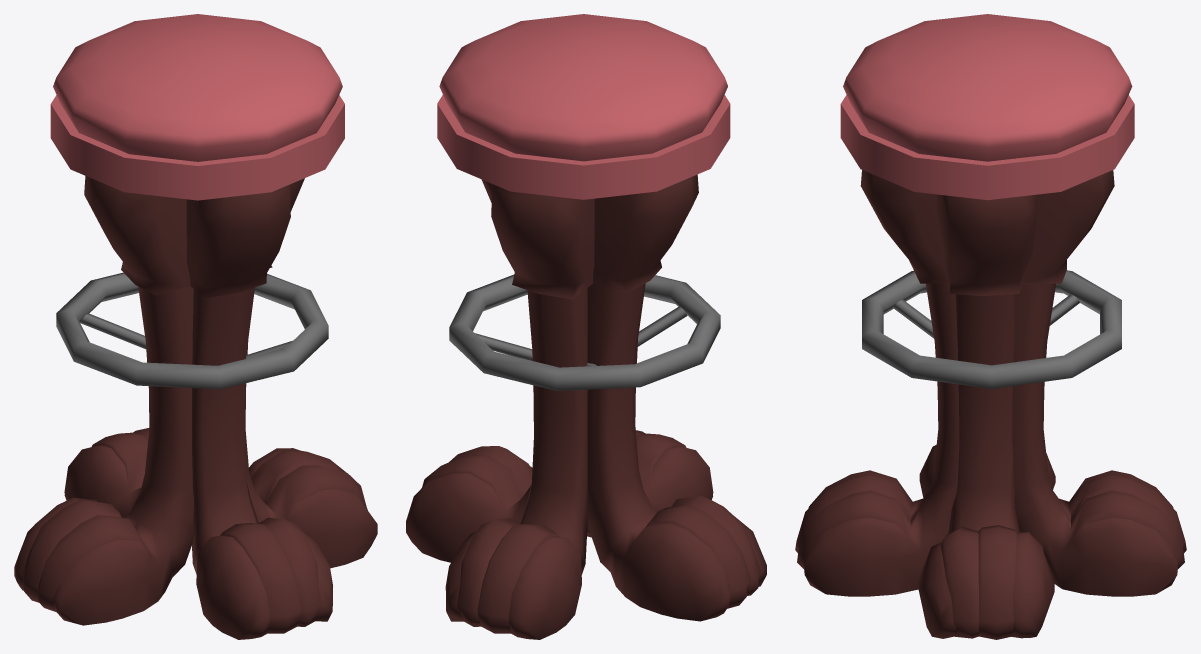
Rendered from tabouret_bar.fbx.
3 views of the same model, side by side, from view 1: azimuth 30°, elevation 25°; view 2: azimuth 150°, elevation 25°; view 3: azimuth 270°, elevation 25° (orthographic).
Parts seen in each view (by area): view 1: siege_bar; view 2: siege_bar; view 3: siege_bar.
Boxes of the visible parts, x1=… form: siege_bar: x1=14, y1=14, x2=377, y2=639; siege_bar: x1=406, y1=14, x2=766, y2=639; siege_bar: x1=795, y1=14, x2=1186, y2=639.
Size of the model in its own units: 17.86 by 26.99 by 18.21.
